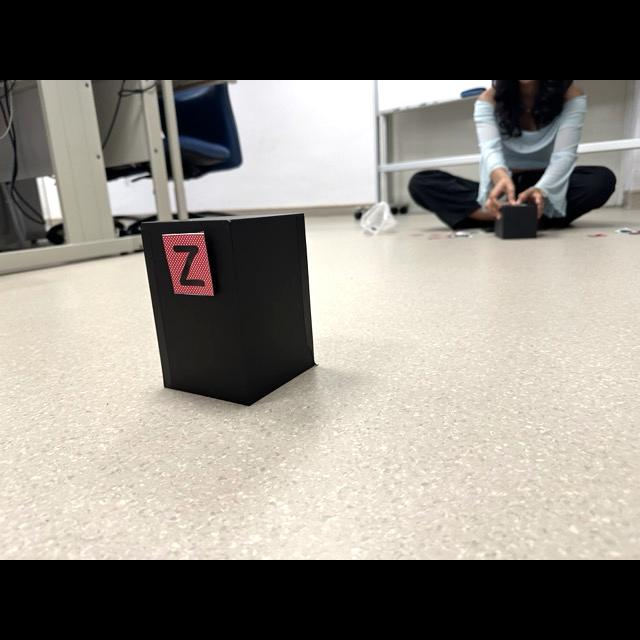Z: (173, 245, 205, 286)
